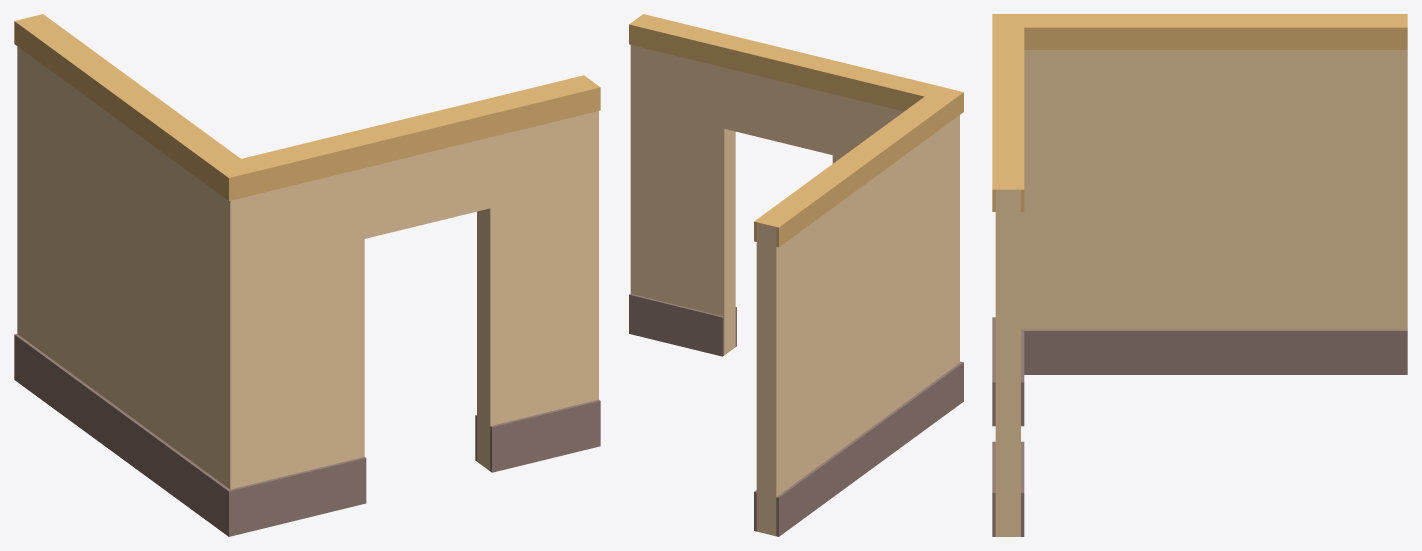
File: Wall02-01.fbx
The picture shows the model from 3 angles, left to right: view 1: azimuth 30°, elevation 25°; view 2: azimuth 150°, elevation 25°; view 3: azimuth 270°, elevation 25°; orthographic projection. The views are drawn at different scales.
Parts seen in each view (by area): view 1: Wall02-01; view 2: Wall02-01; view 3: Wall02-01.
Boxes of the visible parts, x1,y1,x2,y2 form: Wall02-01: (14, 14, 600, 536); Wall02-01: (629, 14, 963, 536); Wall02-01: (992, 14, 1407, 536).
Bounding box in the file's own units: 3.25 × 3.25 × 3.
